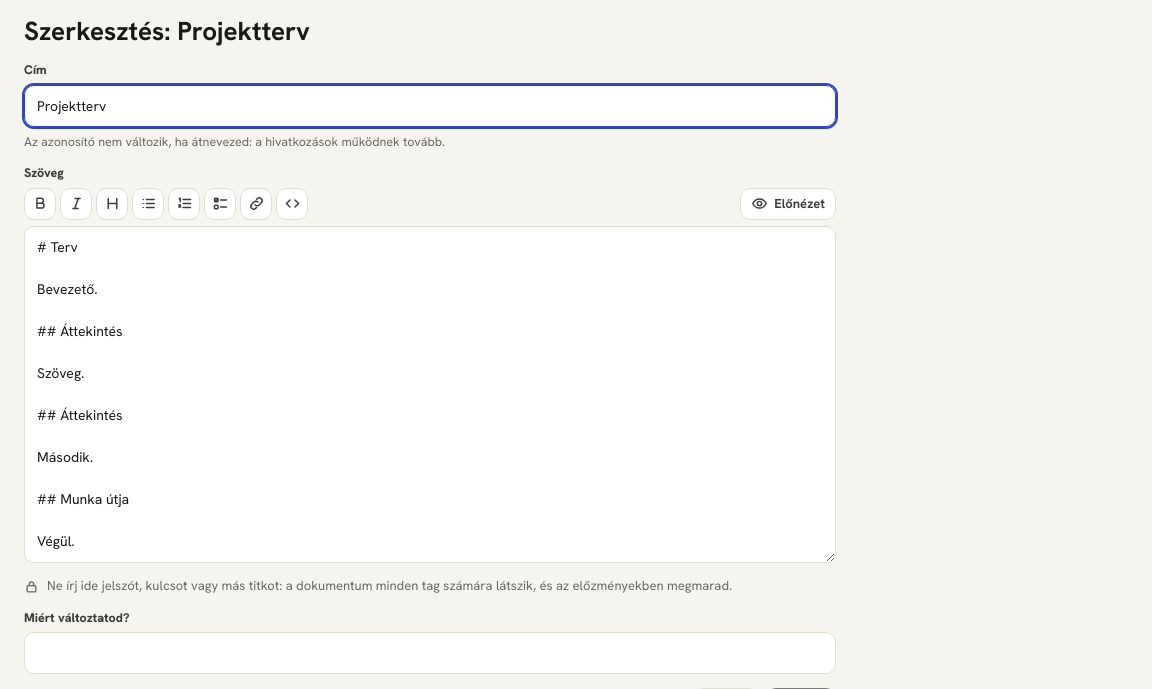
Scenario: writing a document › asks before throwing away unsaved changes
The width and height of the screenshot is (1152, 689).
Replace the text in the field labelled "Cím" with "Más cím" at (430, 106), box [24, 85, 836, 127]
(page scrolled)
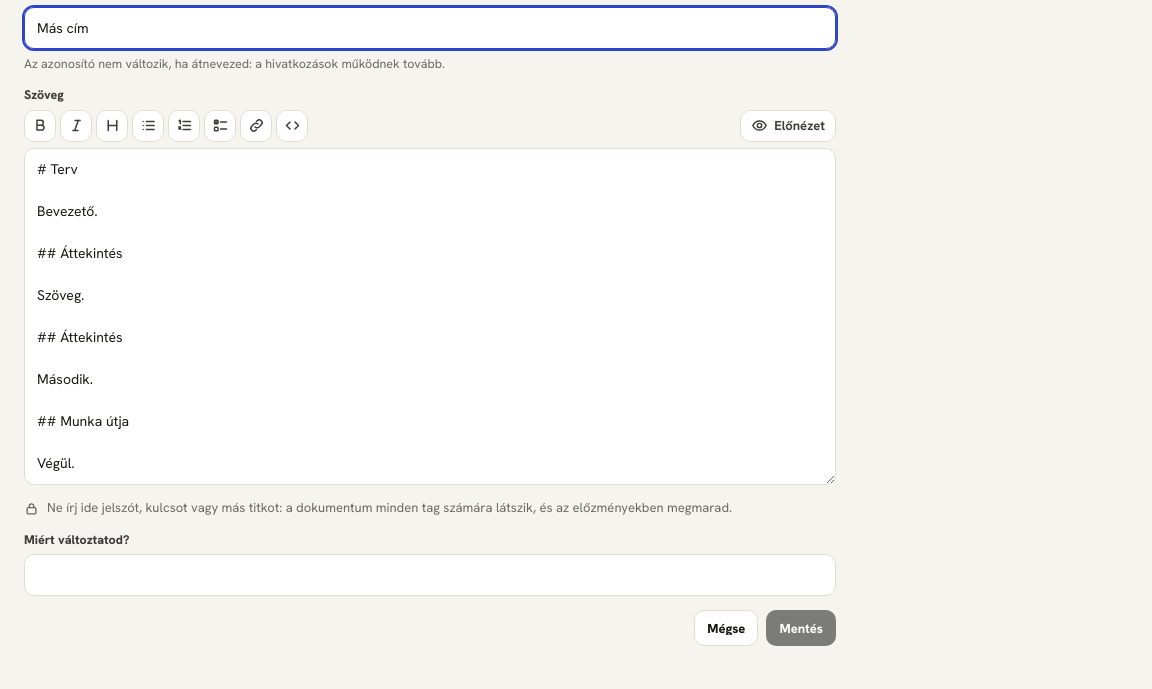
Click the button "Mégse" at (726, 628), box [694, 610, 758, 646]
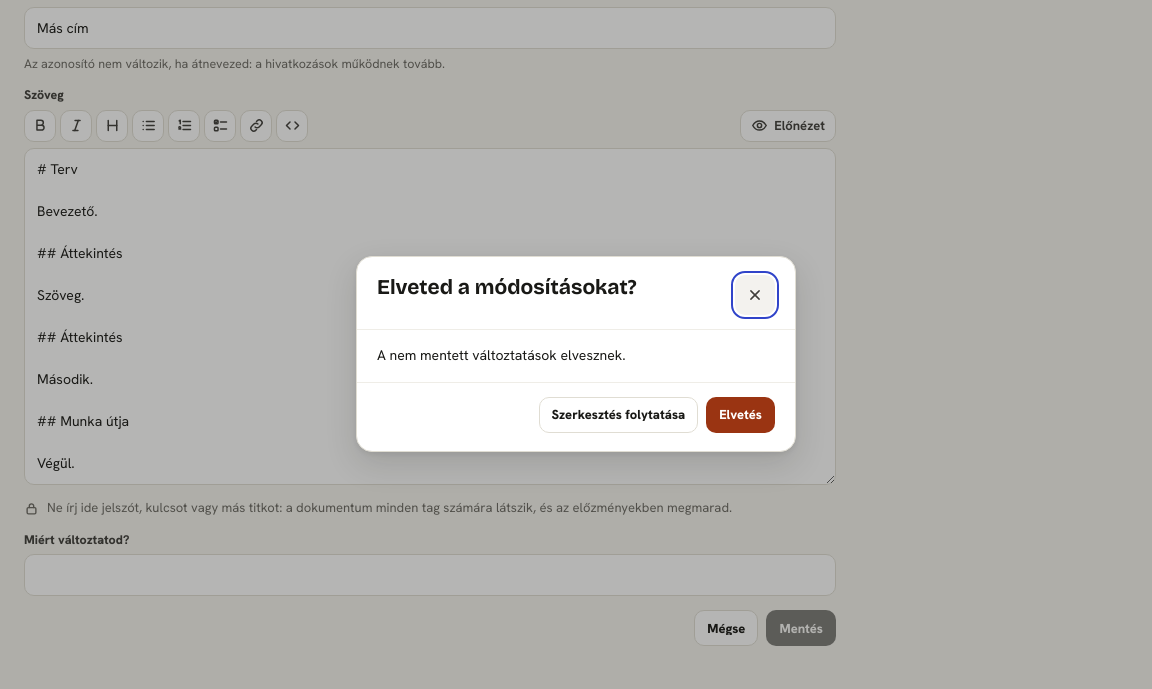
Click the button "Elvetés" at (741, 415), box [706, 397, 775, 433]
(page scrolled)
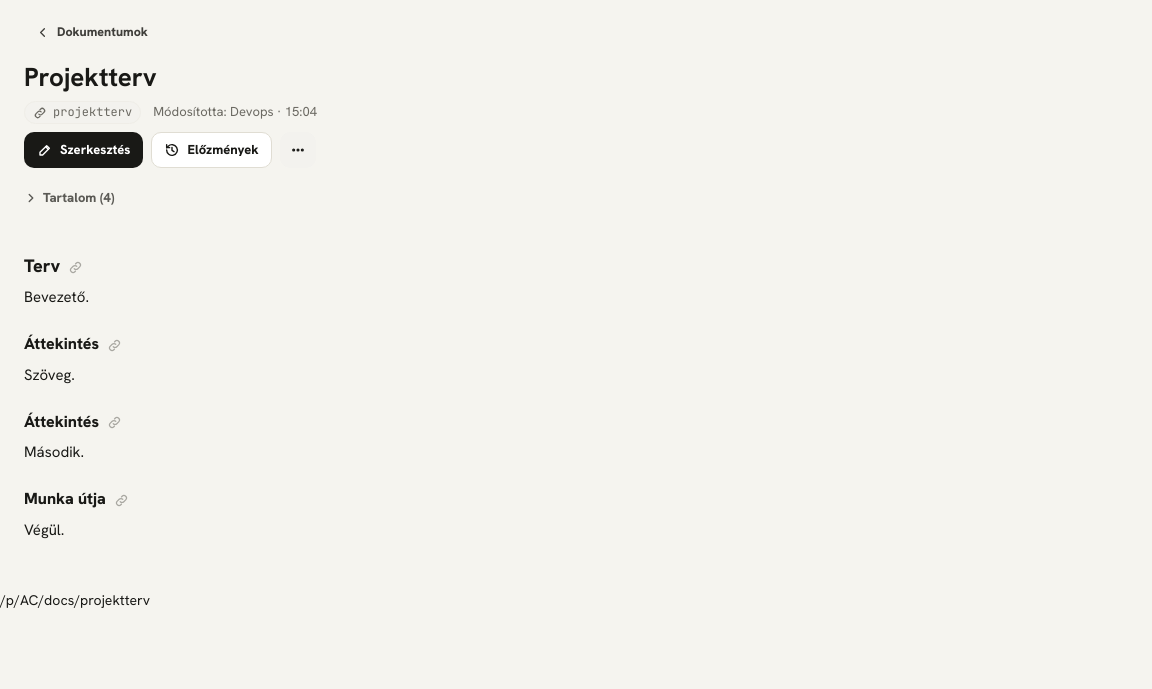
Now the text with test id "where" reads "/p/AC/docs/projektterv", box [0, 591, 150, 609]
